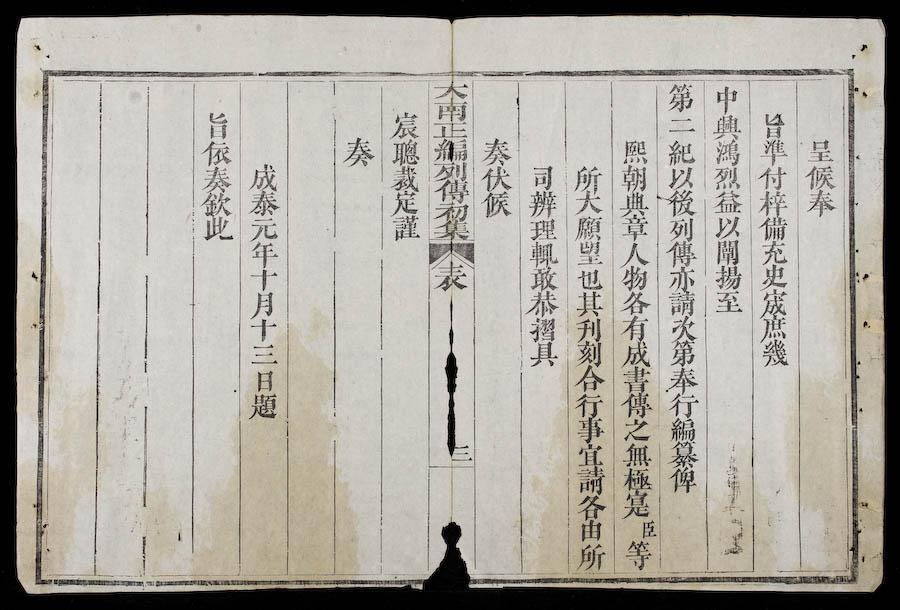c: (341, 135, 375, 168), (433, 262, 470, 292), (664, 81, 697, 113), (623, 539, 655, 571), (432, 137, 469, 163), (389, 110, 421, 140), (480, 136, 512, 166), (527, 190, 559, 219), (248, 162, 280, 191), (433, 98, 470, 123), (200, 217, 235, 243), (575, 543, 607, 571), (759, 340, 791, 368), (804, 190, 837, 217), (200, 140, 233, 167), (620, 491, 653, 518), (574, 467, 607, 494), (200, 166, 233, 193), (480, 192, 513, 219), (664, 139, 697, 166), (664, 190, 697, 217), (433, 179, 470, 203), (756, 190, 790, 216), (665, 367, 699, 393), (247, 191, 281, 217), (666, 392, 700, 418), (711, 84, 741, 113), (572, 165, 603, 193), (757, 138, 789, 165), (667, 441, 699, 468), (758, 290, 790, 317), (620, 366, 652, 393), (574, 366, 606, 393), (247, 393, 279, 420), (527, 291, 560, 317), (804, 164, 837, 190), (480, 166, 513, 192), (203, 110, 231, 140), (432, 220, 472, 241), (805, 136, 836, 163), (433, 78, 471, 100), (527, 342, 559, 368), (667, 468, 699, 494), (389, 166, 421, 192), (620, 341, 652, 367), (665, 241, 697, 267), (574, 417, 606, 443), (200, 192, 233, 217), (620, 393, 653, 418), (620, 138, 650, 165), (574, 291, 605, 317), (390, 140, 421, 166), (621, 442, 652, 468), (390, 216, 421, 242), (667, 340, 698, 366), (711, 114, 742, 140), (248, 241, 280, 266), (573, 393, 605, 418), (575, 495, 607, 520), (711, 190, 744, 214), (572, 192, 605, 216), (760, 110, 788, 138), (432, 202, 471, 222), (713, 265, 743, 291), (619, 166, 649, 192), (758, 216, 789, 241), (619, 216, 650, 241), (620, 291, 651, 316), (528, 242, 559, 267), (759, 316, 790, 341), (757, 165, 788, 190), (666, 291, 697, 316), (528, 267, 559, 292), (619, 316, 650, 341), (667, 417, 698, 442), (248, 218, 280, 242), (389, 192, 421, 216), (621, 467, 653, 491), (249, 291, 277, 318), (619, 192, 649, 217), (574, 242, 604, 267), (620, 242, 650, 267), (712, 140, 742, 165), (759, 265, 789, 290), (573, 216, 603, 241), (574, 341, 604, 366), (248, 318, 279, 342), (713, 291, 744, 315), (248, 342, 279, 366), (758, 241, 789, 265), (711, 166, 742, 190), (666, 267, 697, 291), (621, 418, 652, 442), (248, 268, 280, 291), (713, 239, 741, 265), (620, 266, 649, 291), (432, 162, 470, 181), (528, 318, 558, 342), (666, 217, 696, 241), (575, 443, 605, 467), (668, 317, 698, 341), (527, 219, 558, 242), (713, 215, 742, 239), (574, 318, 603, 342), (529, 164, 555, 190), (666, 166, 695, 189), (431, 121, 470, 138), (251, 368, 277, 393), (577, 519, 605, 542), (576, 268, 604, 291), (665, 116, 697, 136), (451, 442, 472, 462), (638, 519, 657, 538)
